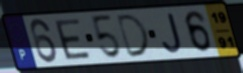5: (88, 14, 124, 61)
6: (29, 18, 59, 65), (184, 9, 214, 54)
D: (116, 13, 153, 60)
E: (52, 17, 93, 61)
J: (160, 11, 184, 55)
